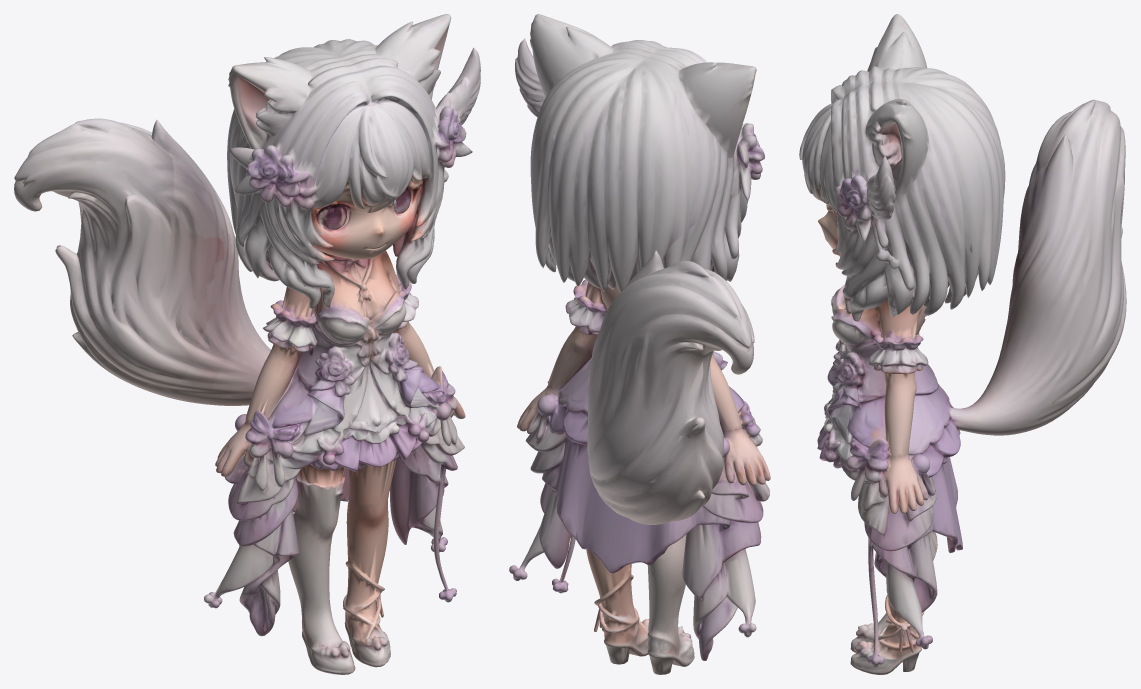
Rendered from nana_qver.glb.
3 views of the same model, side by side, from view 1: azimuth 30°, elevation 25°; view 2: azimuth 150°, elevation 25°; view 3: azimuth 270°, elevation 25° (orthographic). The views are drawn at different scales.
Parts seen in each view (by area): view 1: node_0; view 2: node_0; view 3: node_0.
Part boxes in pixels (x1,y1,x2,y2): node_0: (14, 14, 480, 674); node_0: (509, 14, 770, 674); node_0: (799, 14, 1126, 674).
Size of the model in its own units: 0.6259 by 1.05 by 0.5257.
Materials: 1 (1 with a texture image).
